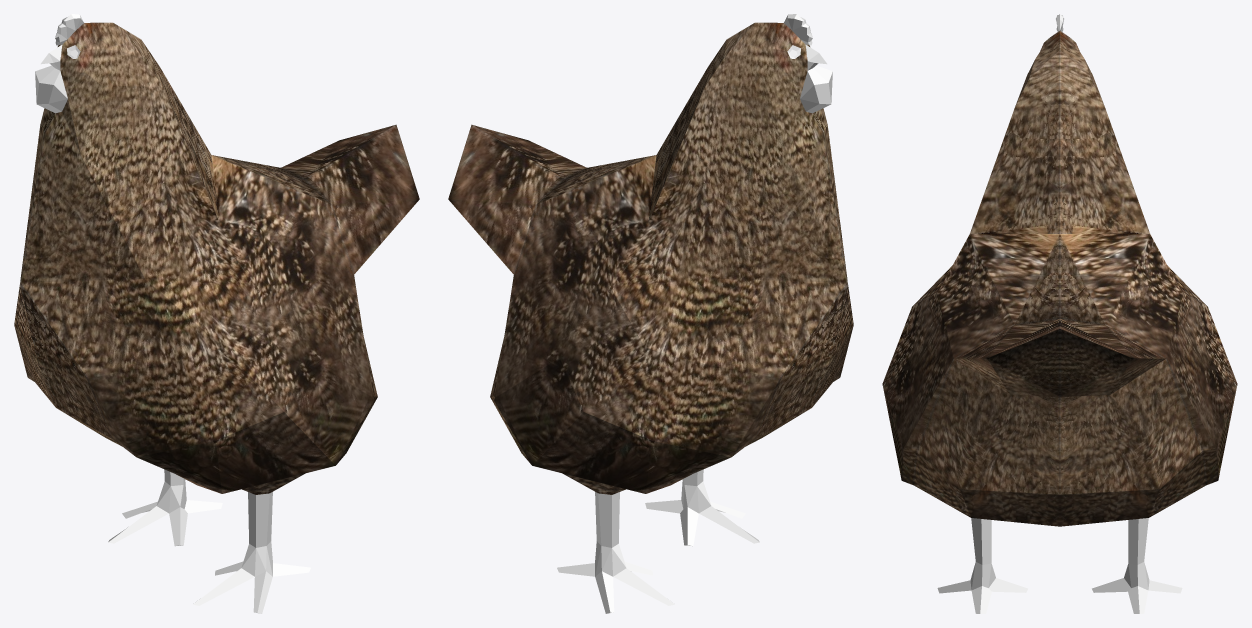
Rendered from Unity2Skfb.gltf.
3 views of the same model, side by side, from view 1: azimuth 30°, elevation 25°; view 2: azimuth 150°, elevation 25°; view 3: azimuth 270°, elevation 25° (orthographic). The views are drawn at different scales.
Visible parts, largest first — view 1: node_chicken-texture_-4072; view 2: node_chicken-texture_-4072; view 3: node_chicken-texture_-4072.
Part boxes in pixels (x1,y1,x2,y2): node_chicken-texture_-4072: (14, 14, 419, 613); node_chicken-texture_-4072: (448, 14, 853, 613); node_chicken-texture_-4072: (882, 14, 1237, 613).
Bounding box in the file's own units: 2.36 × 3.49 × 2.14.
5 materials, 1 textured.
